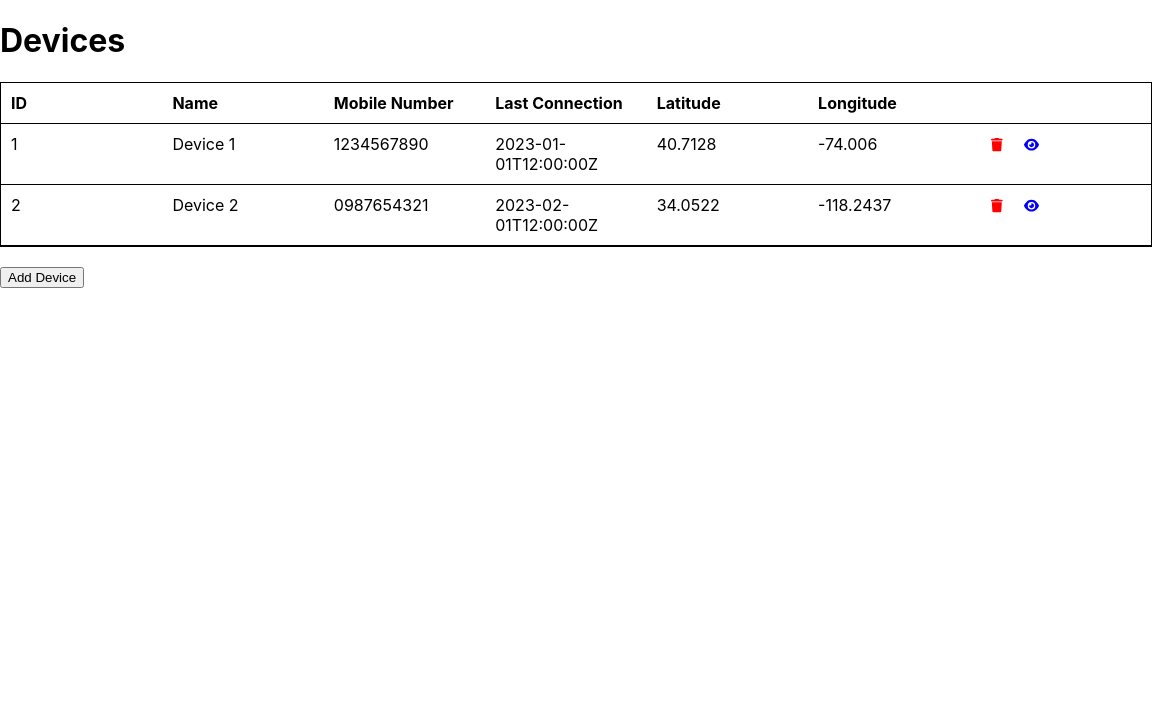
Scenario: Devices Component › opens the AddDevice modal
Click the button "Add Device" at (42, 277), box x1=0 y1=267 x2=84 y2=288
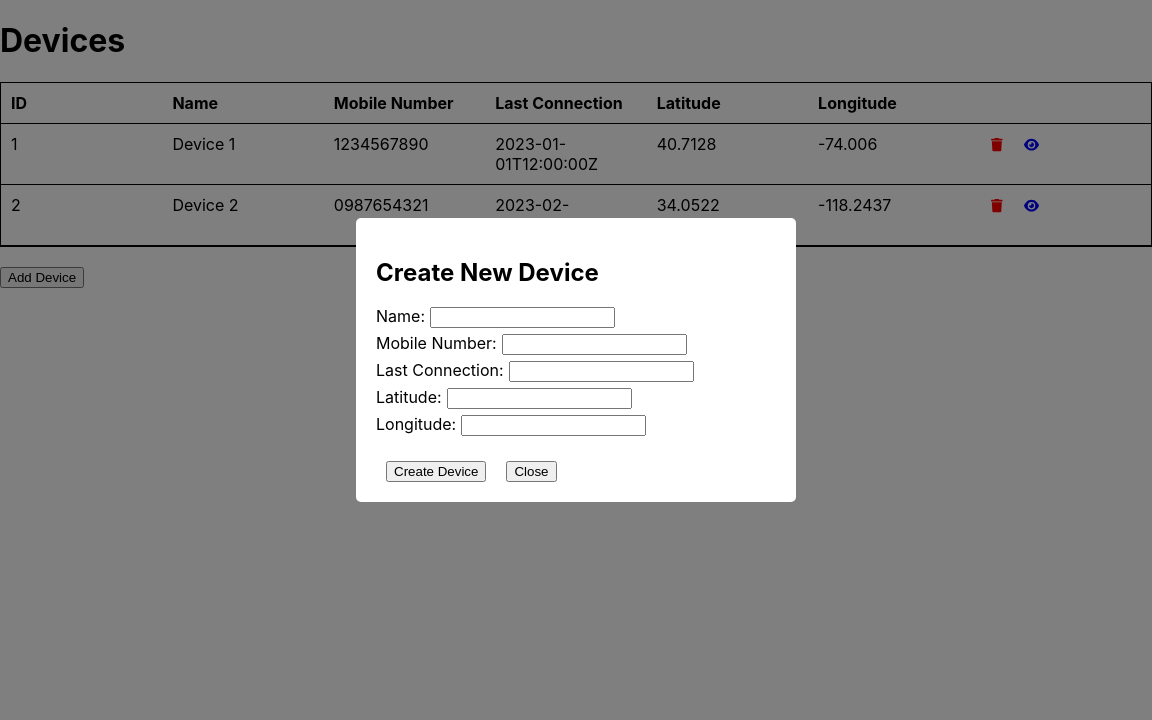
Expected: the heading "Create New Device" is shown, x1=376 y1=258 x2=599 y2=286
